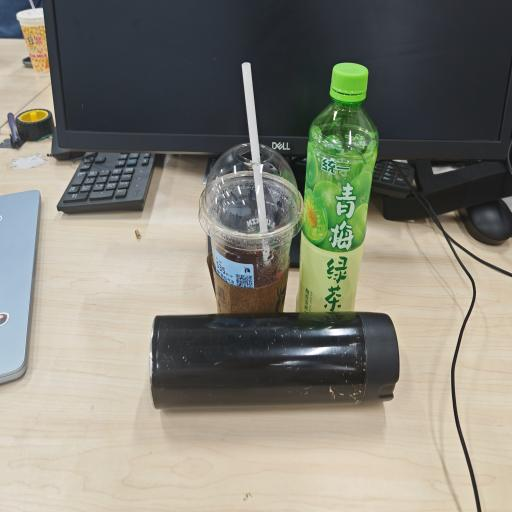mouse: (461, 199, 512, 245)
